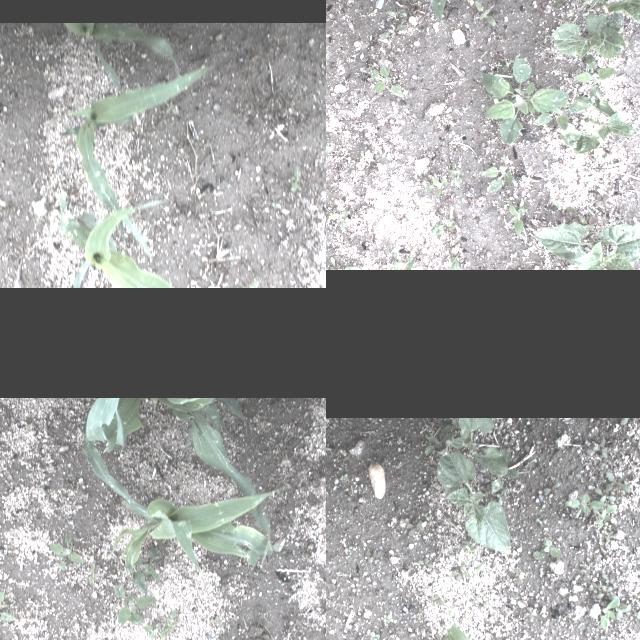crop: (59, 63, 213, 257), (80, 432, 274, 574), (58, 190, 229, 288), (149, 400, 265, 534), (61, 23, 179, 89), (436, 449, 508, 553), (448, 418, 518, 494), (532, 222, 640, 270), (558, 94, 638, 154), (78, 398, 142, 452), (552, 22, 624, 62), (578, 0, 640, 41), (444, 623, 471, 640)
weed: (480, 56, 568, 146), (572, 54, 616, 100), (112, 584, 158, 628), (532, 98, 586, 130), (399, 0, 475, 19), (479, 154, 515, 192), (48, 529, 82, 569), (122, 550, 156, 588), (368, 64, 404, 98), (136, 614, 180, 640), (564, 492, 604, 514), (531, 538, 563, 560), (0, 586, 18, 624), (328, 200, 348, 232), (507, 202, 525, 236), (600, 594, 618, 628), (593, 504, 617, 528), (388, 248, 414, 270), (424, 434, 452, 454), (474, 0, 494, 26), (378, 22, 406, 40), (424, 177, 448, 197), (428, 218, 454, 236), (606, 471, 628, 492), (82, 563, 98, 589), (450, 562, 470, 582), (288, 165, 302, 193), (600, 153, 624, 169), (447, 246, 463, 270), (550, 201, 576, 215), (448, 161, 462, 187), (578, 214, 596, 234), (591, 438, 609, 457), (386, 5, 406, 22), (616, 42, 638, 56), (594, 482, 610, 500), (542, 482, 560, 496), (594, 194, 610, 208), (585, 206, 601, 220), (416, 556, 432, 570), (596, 584, 612, 598), (386, 50, 400, 64), (421, 240, 435, 254), (327, 256, 341, 270), (364, 550, 378, 564), (616, 604, 630, 618), (580, 150, 596, 162), (158, 104, 175, 115), (0, 203, 13, 217), (461, 540, 474, 554), (240, 279, 259, 288), (604, 142, 616, 156), (476, 142, 490, 154), (474, 596, 488, 608), (428, 596, 444, 606), (31, 214, 43, 226), (559, 258, 571, 270), (414, 176, 426, 188), (444, 192, 456, 204), (478, 248, 490, 260), (601, 572, 613, 584), (502, 59, 512, 73), (408, 523, 422, 533), (464, 184, 474, 196), (443, 241, 455, 251), (524, 609, 536, 619), (566, 470, 580, 478), (623, 150, 633, 160), (478, 48, 488, 58), (466, 197, 476, 207), (388, 145, 398, 155), (369, 234, 379, 244), (418, 12, 428, 22), (346, 544, 356, 554), (326, 266, 359, 269), (369, 631, 380, 640), (369, 162, 377, 174), (605, 530, 613, 542), (474, 562, 482, 574), (588, 583, 600, 591), (378, 144, 387, 154), (459, 25, 468, 35), (361, 136, 372, 144), (430, 633, 442, 640), (270, 201, 280, 209), (557, 158, 567, 166), (573, 194, 583, 202), (446, 130, 456, 138), (348, 117, 358, 125), (384, 118, 392, 128), (384, 140, 394, 148), (332, 166, 342, 174), (462, 32, 472, 40), (524, 459, 534, 467), (338, 472, 348, 480), (382, 614, 390, 624), (358, 151, 364, 163), (445, 604, 451, 616), (326, 442, 331, 455), (435, 208, 443, 216), (366, 145, 374, 153), (516, 570, 520, 586), (618, 418, 628, 424), (326, 114, 331, 124), (404, 44, 412, 50), (397, 149, 405, 155), (632, 612, 640, 618), (230, 260, 237, 266), (386, 64, 390, 74), (367, 418, 375, 422), (624, 138, 630, 142), (636, 418, 640, 423)
